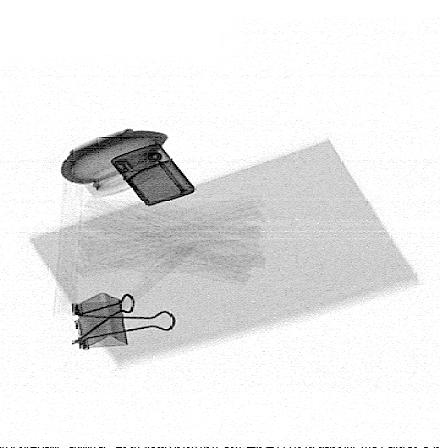Lighter: (110, 143, 195, 206)
